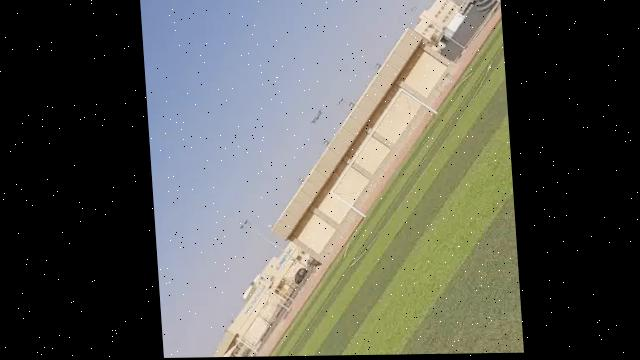drone: (298, 105, 322, 130)
